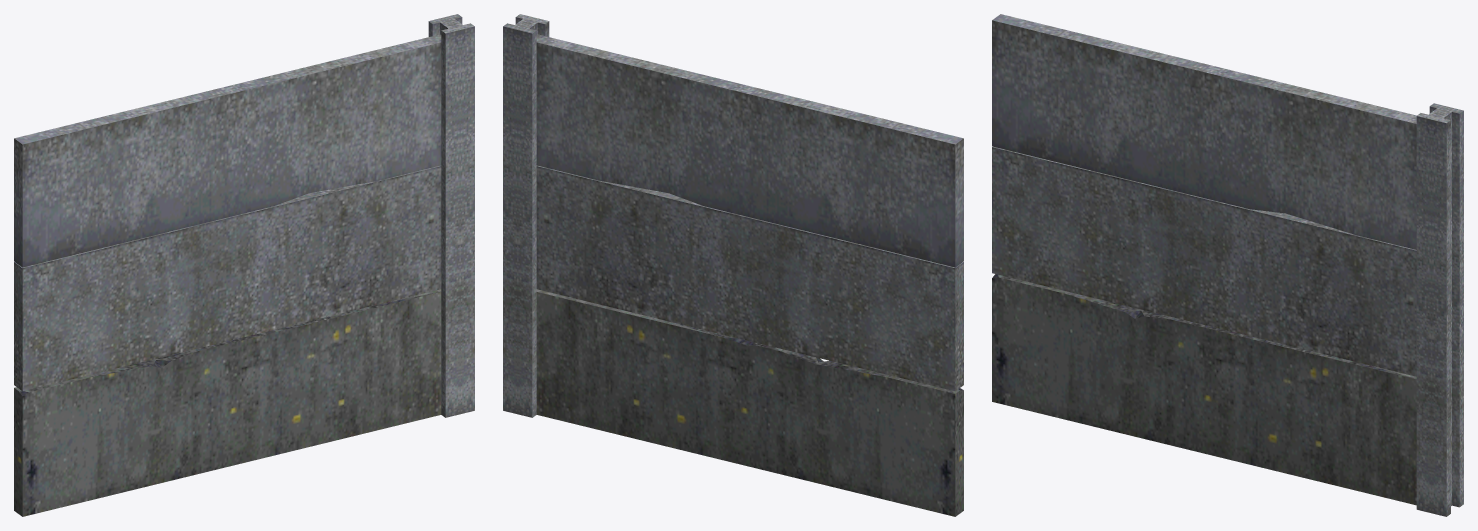
File: Urban_PlackardOpenAlt2_Alternate_f79a51_Model.fbx
The picture shows the model from 3 angles, left to right: view 1: azimuth 30°, elevation 25°; view 2: azimuth 150°, elevation 25°; view 3: azimuth 330°, elevation 25°; orthographic projection. The views are drawn at different scales.
Visible parts, largest first — view 1: Urban_PlackardOpenAlt2_Alternate_f79a51_Mesh; view 2: Urban_PlackardOpenAlt2_Alternate_f79a51_Mesh; view 3: Urban_PlackardOpenAlt2_Alternate_f79a51_Mesh.
Part boxes in pixels (x1,y1,x2,y2): Urban_PlackardOpenAlt2_Alternate_f79a51_Mesh: (14, 14, 474, 516); Urban_PlackardOpenAlt2_Alternate_f79a51_Mesh: (503, 14, 963, 516); Urban_PlackardOpenAlt2_Alternate_f79a51_Mesh: (992, 14, 1463, 516).
Bounding box in the file's own units: 3.05 × 2.5 × 0.2.
